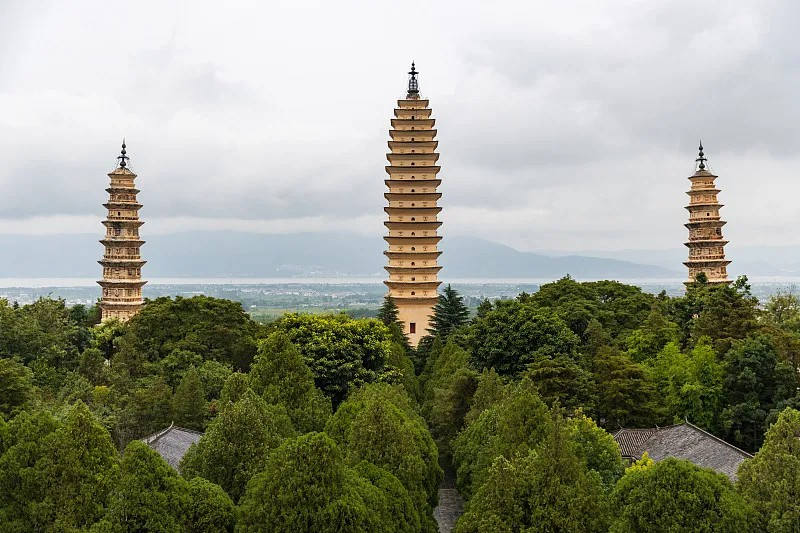ThreePagoda: (383, 61, 442, 349)
